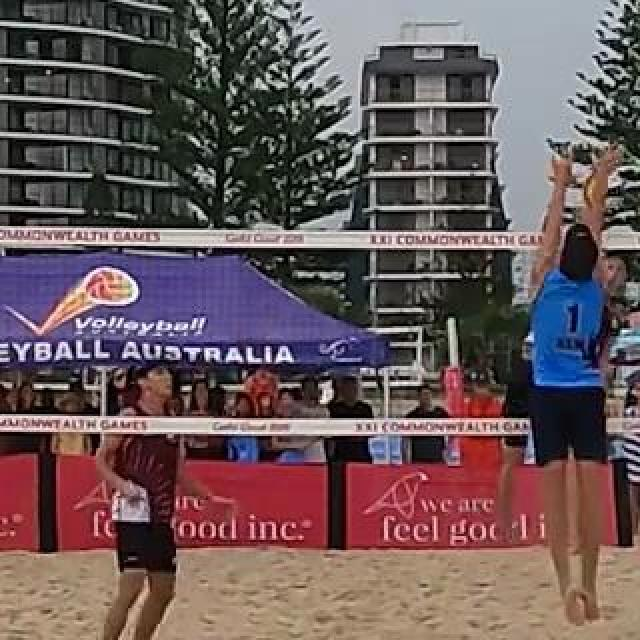volleyball: (584, 170, 624, 212)
